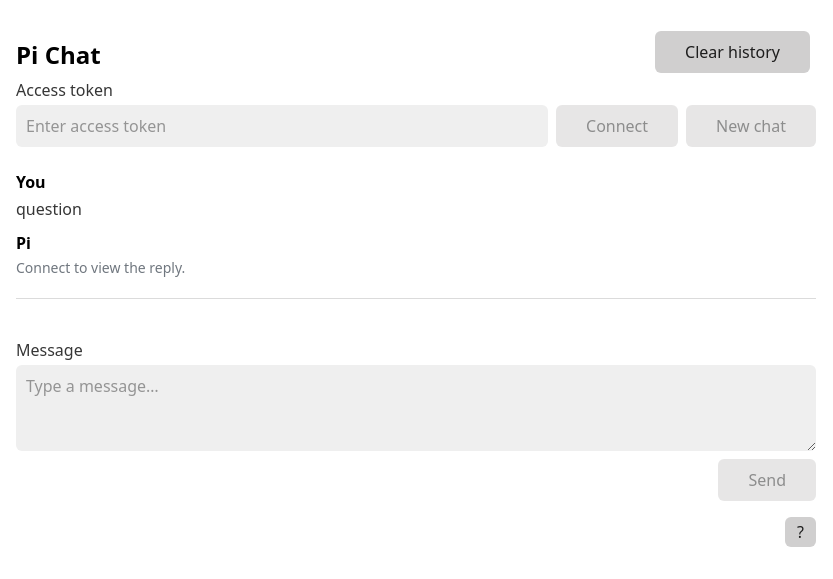
Test case: Svelte live chat › restores terminal outputs only after auth and visibility, showing failed native results
Step 1. Type "private-token" into the password field labelled "Access token" → (282, 126), box [16, 105, 548, 147]
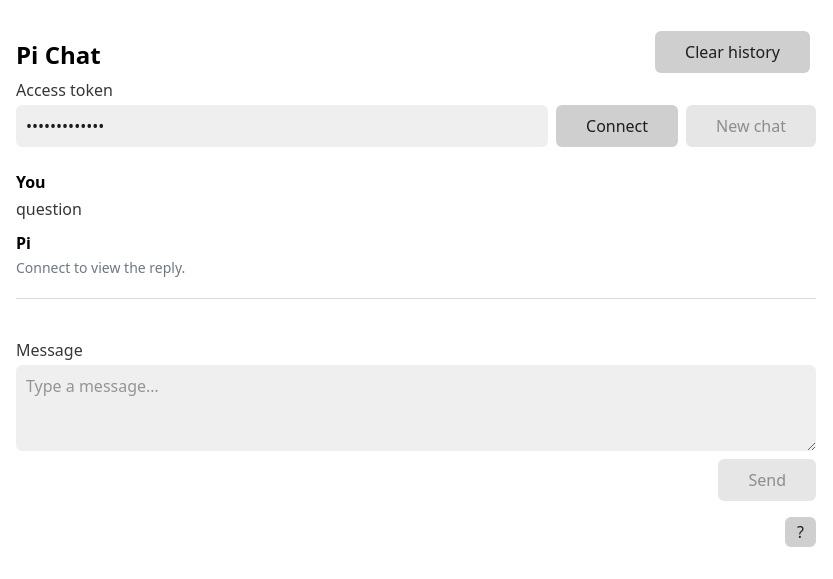
Step 2. Click the button "Connect" → (617, 126), box [556, 105, 678, 147]
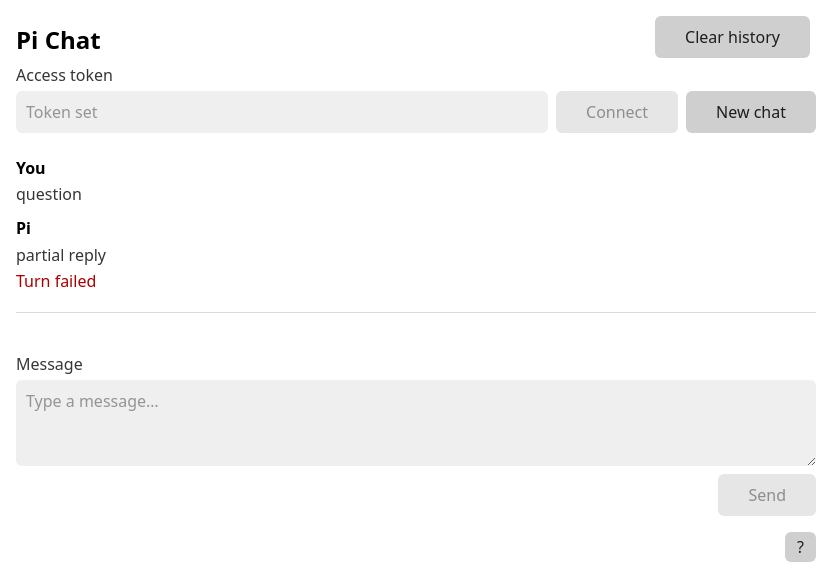
Result: the text "partial reply" is shown at [16, 244, 106, 266]
Result: the text "Turn failed" is shown at [16, 270, 96, 292]
